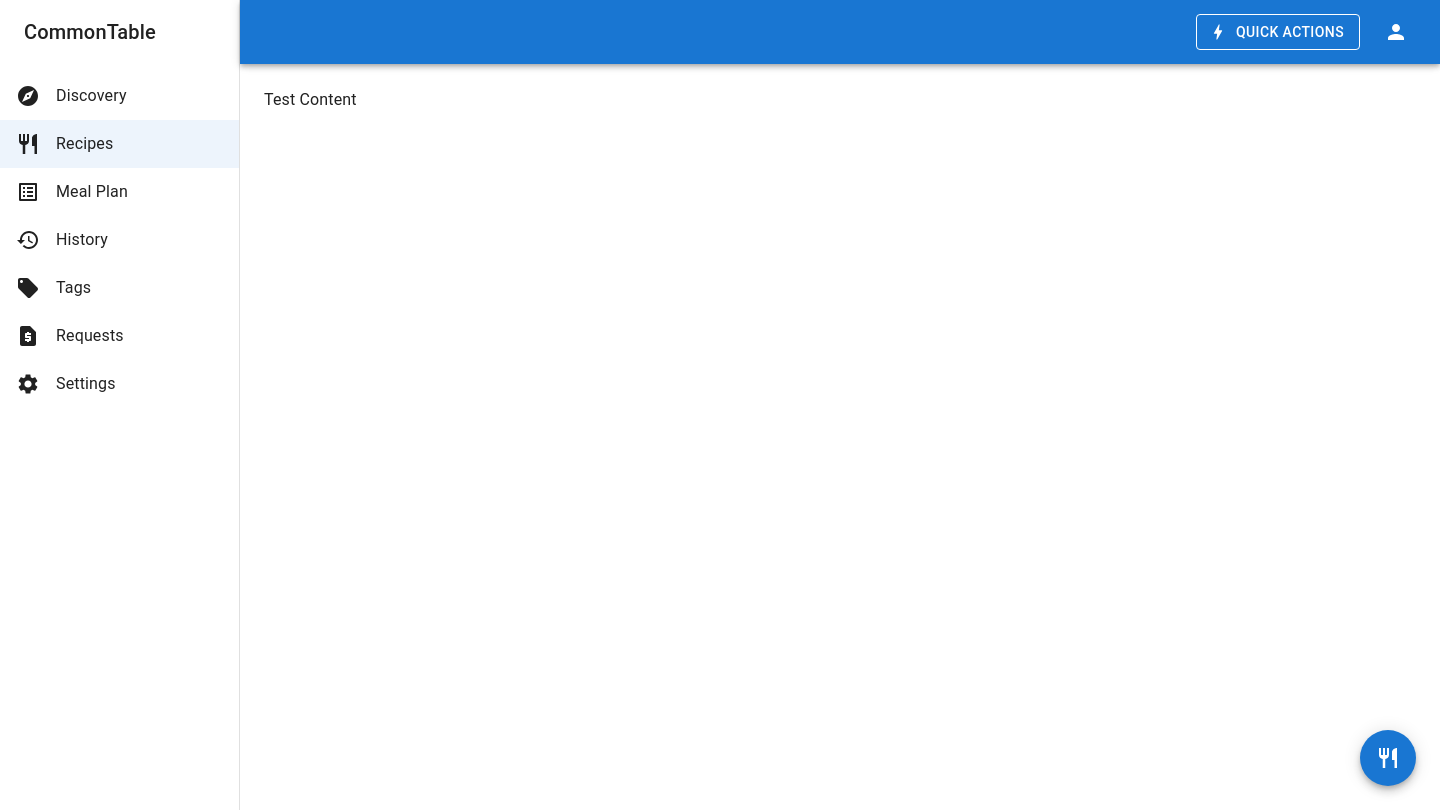
Scenario: DashboardLayout › User Menu › should open user menu when clicked
Click the button named "User menu".
click(1396, 32)  # box [1376,12,1416,52]
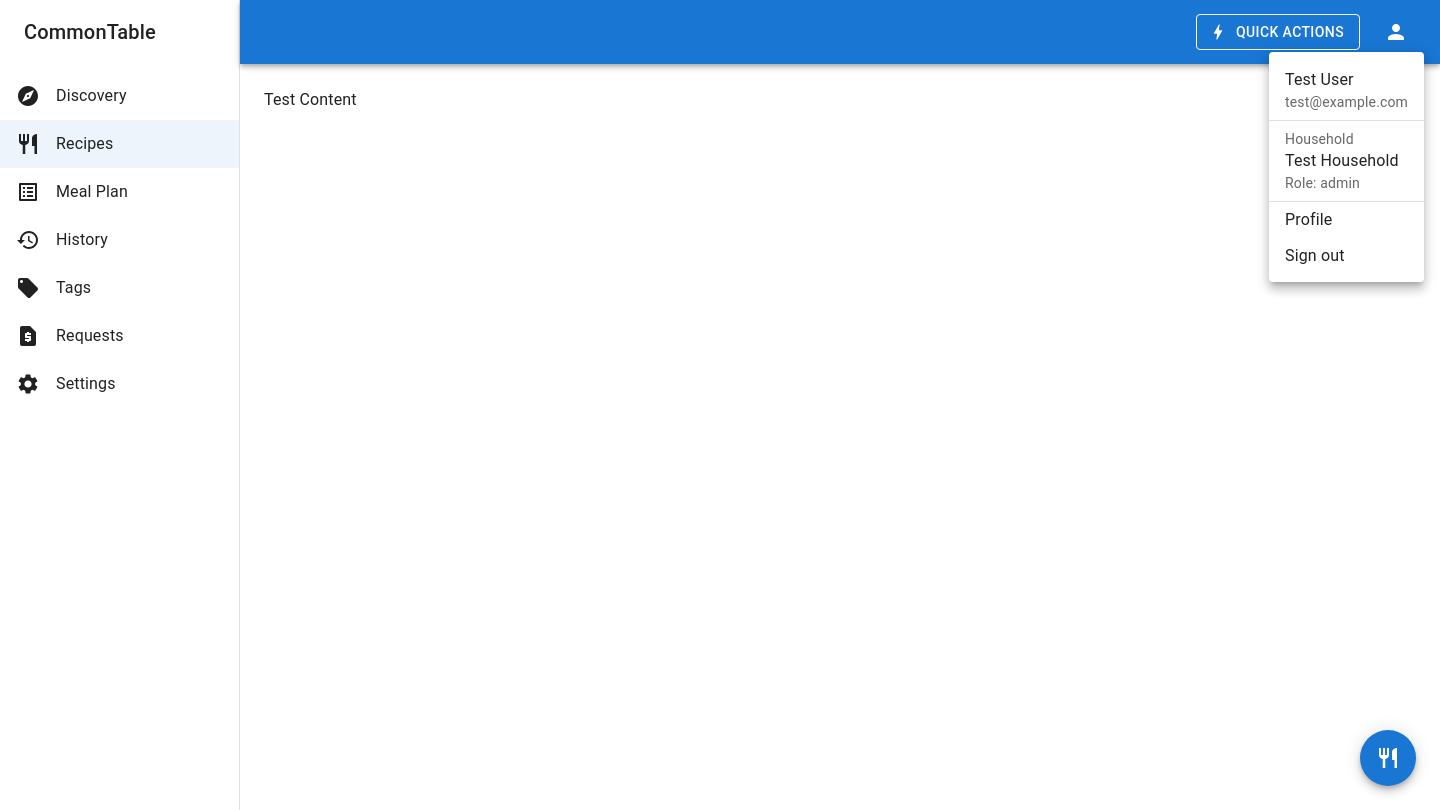
Check: the menu item "Profile" is shown, box [1285,210,1332,229]
Check: the menu item "Sign out" is shown, box [1285,246,1345,265]
